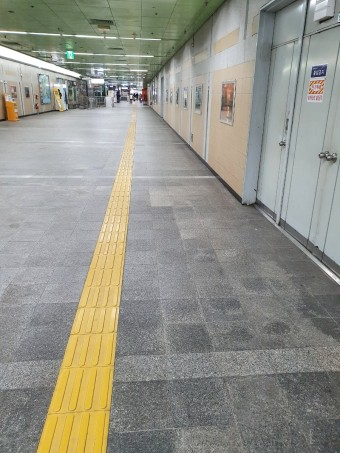guideBlock: (53, 371, 121, 414), (43, 419, 110, 453), (79, 298, 120, 340), (64, 328, 108, 362), (85, 265, 127, 289), (92, 251, 132, 272), (83, 283, 117, 306)
